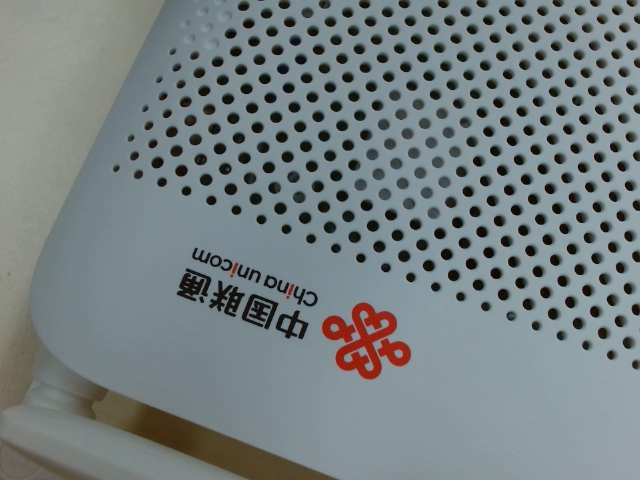ChinaUnicom2: (156, 237, 427, 395)
